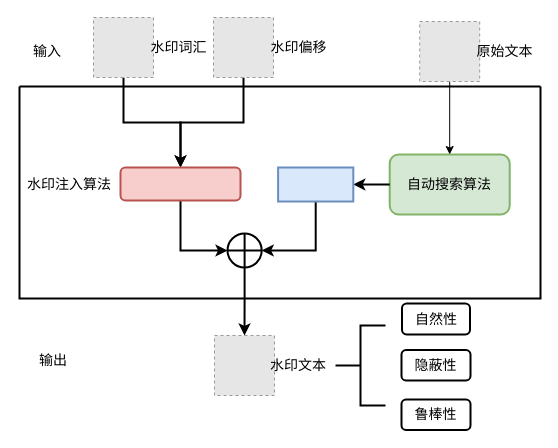
Image size: 558x448. Some labels were removed from this diagram. Grey dashed boxes stand in for pictures. Here are the shapes that lost their labels. From the top down, the box of each, then its label:
(119, 166, 241, 201): 水印样本
(277, 166, 354, 202): 水印位置
